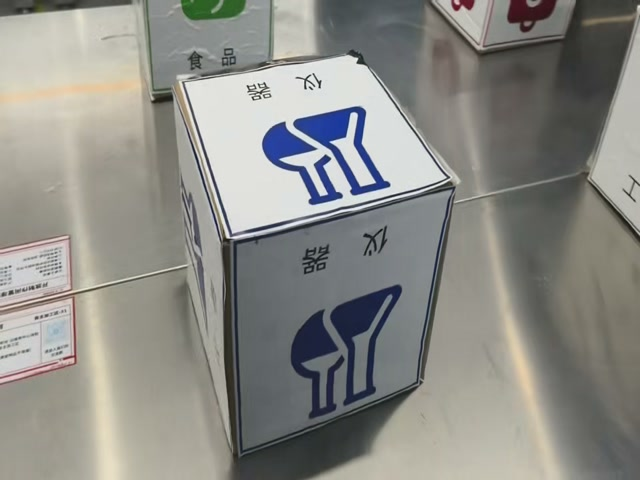Cube_ins: (174, 53, 454, 237)
